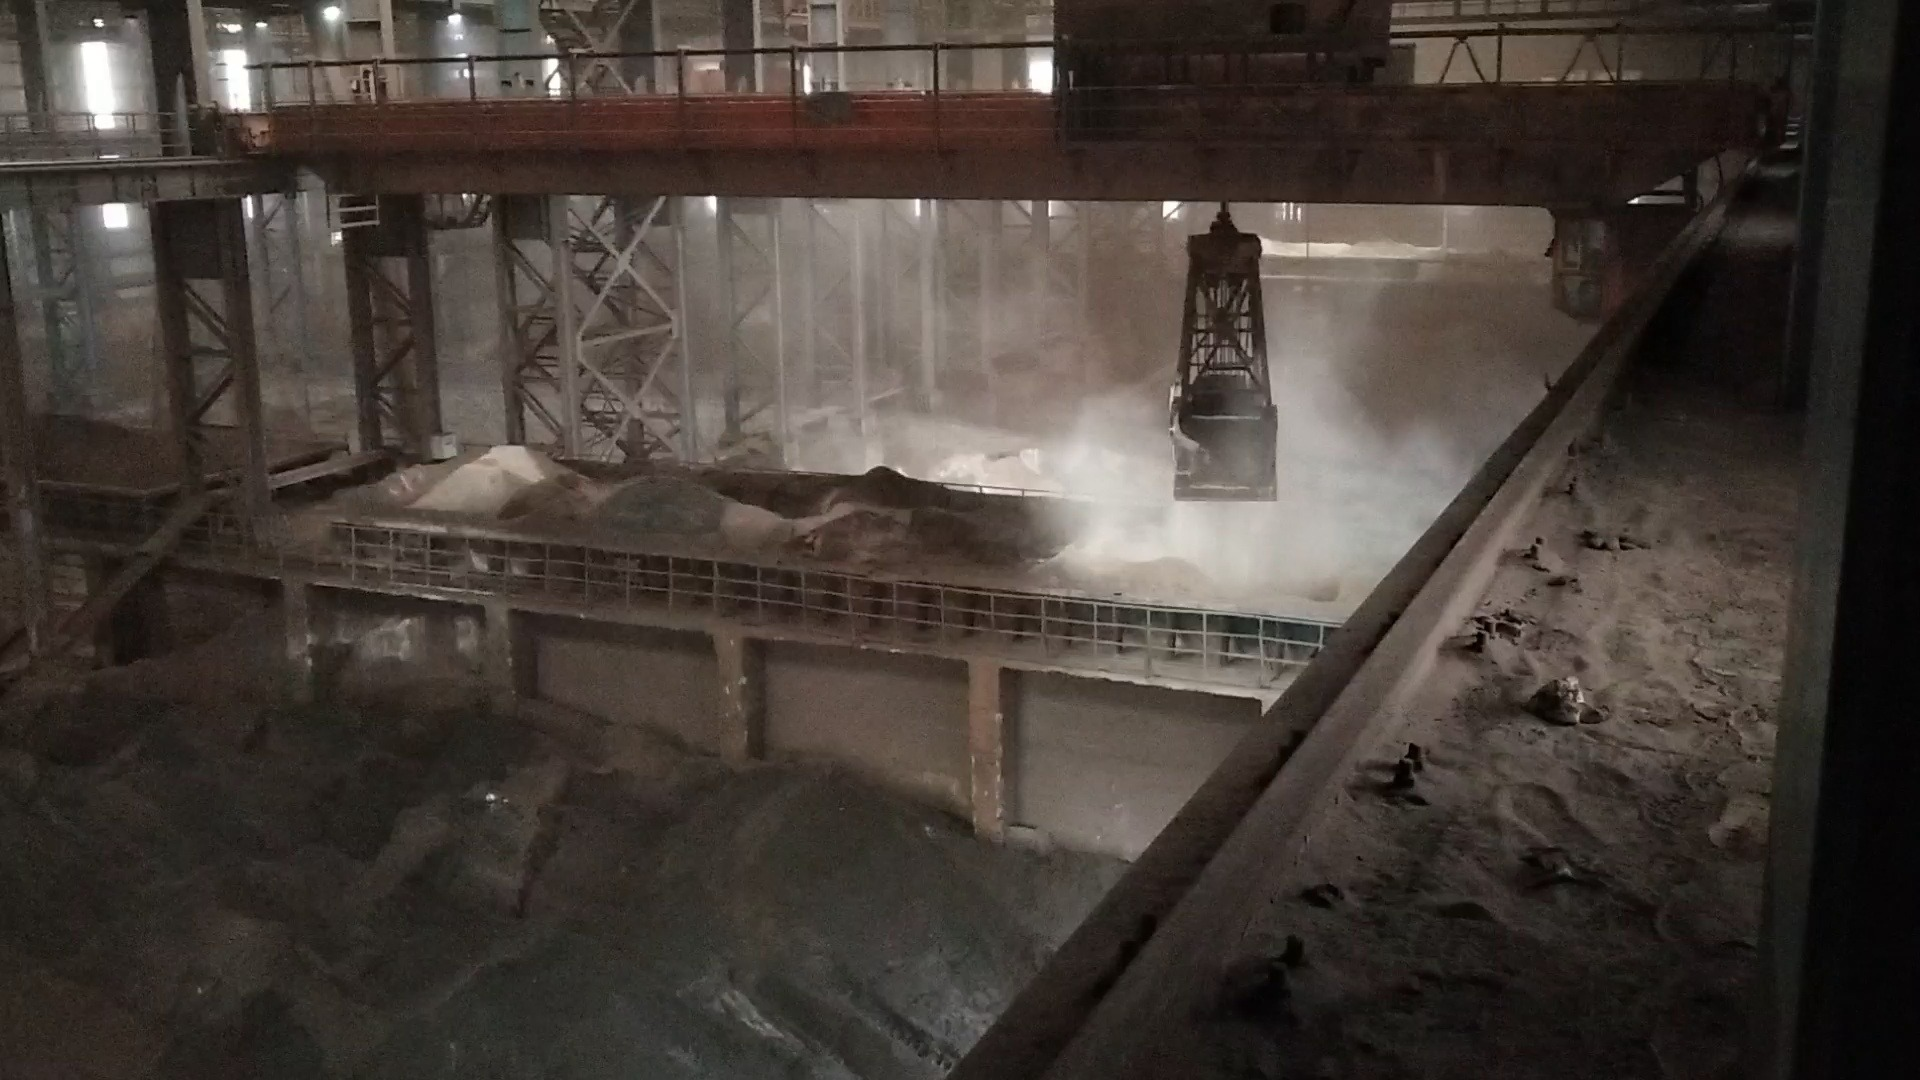dust: (713, 198, 1470, 609)
grab: (1160, 208, 1290, 508)
